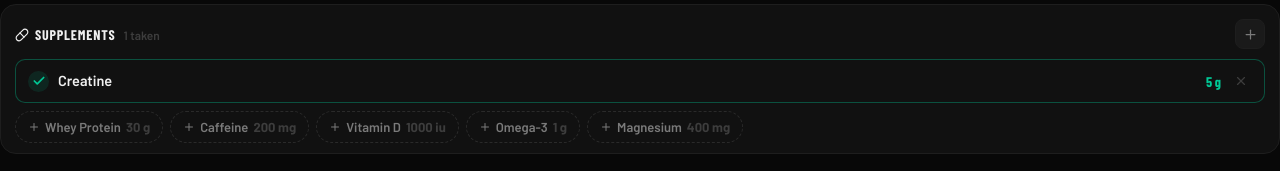
Test: SupplementSection › un-marks a supplement
Click the button with class "supp-remove" at (1241, 81), box [1230,70,1252,92]
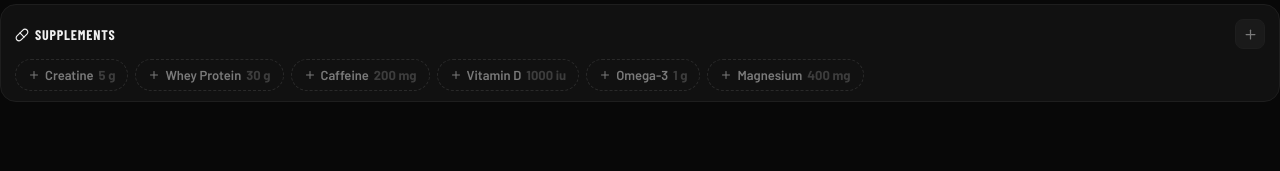
Result: no buttons with class "taken" are shown
